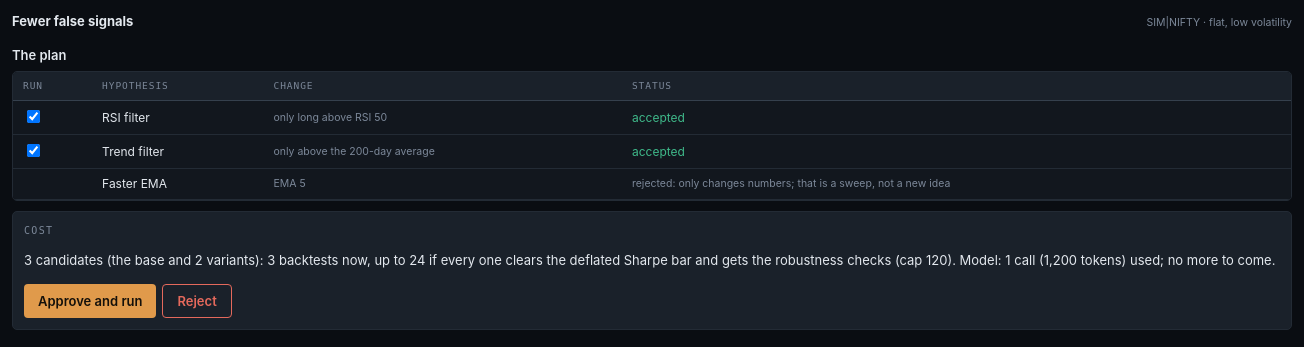
Scenario: ResearchView › shows the plan and its cost, and approves with the variants the trader dropped
The image size is (1304, 347).
Later steps or results of the test are not shown.
Expected: the text "only changes numbers" is shown, [632, 177, 950, 190]
Expected: the element labelled "Cost" shows "3 candidates", [12, 211, 1292, 330]
Click the checkbox named "Run Trend filter".
click(34, 151)  # box [27, 144, 40, 157]
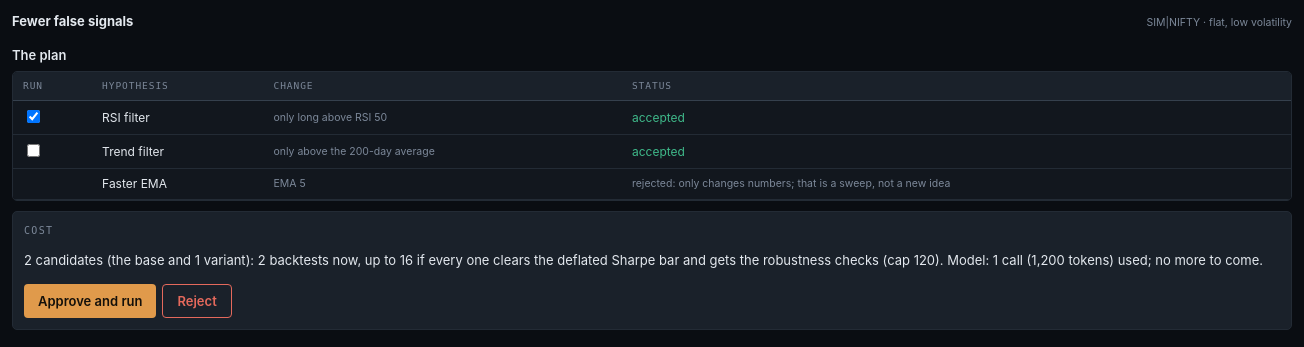
Result: the element labelled "Cost" shows "2 candidates" at [12, 211, 1292, 330]
Result: the element labelled "Cost" shows "up to 16" at [12, 211, 1292, 330]
